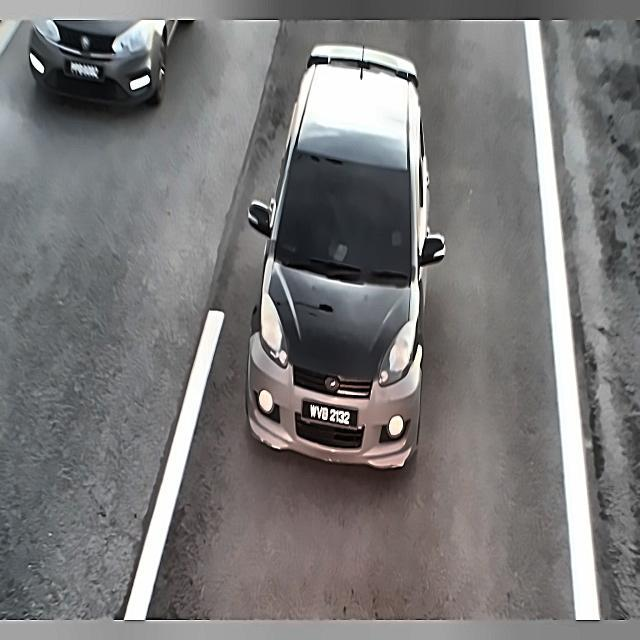car: (292, 393, 362, 437), (66, 56, 102, 90)
